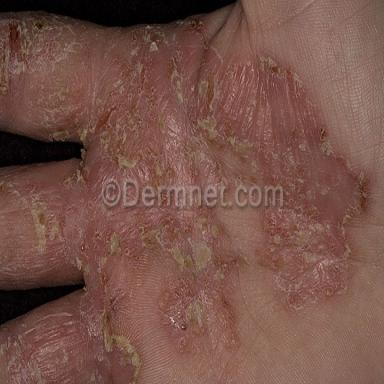eczema: (0, 8, 368, 384)
